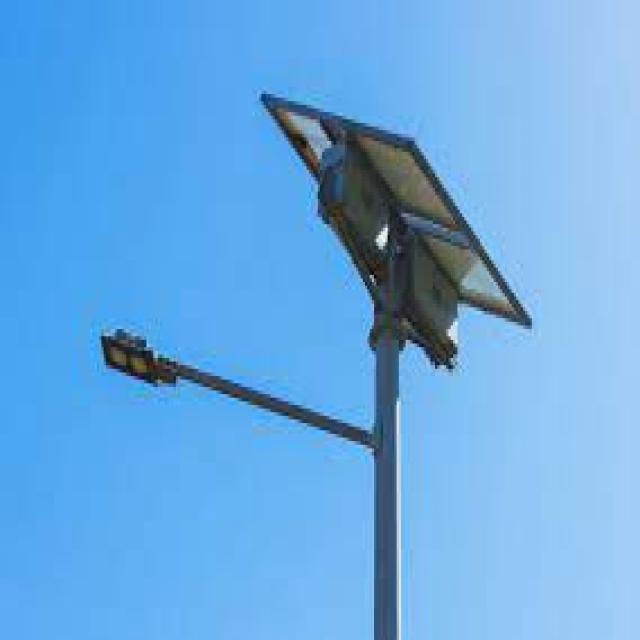Street Light: (99, 318, 417, 640)
